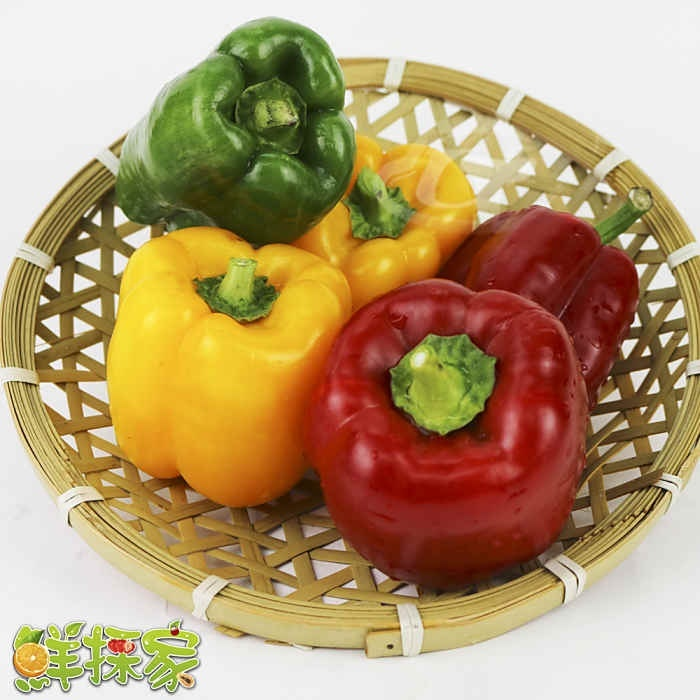fruit: (317, 288, 591, 591), (105, 224, 354, 511), (115, 14, 355, 245), (434, 204, 640, 416), (290, 132, 477, 311)
pedicle: (386, 331, 501, 438), (235, 76, 306, 153), (191, 271, 278, 323), (341, 184, 416, 241)
